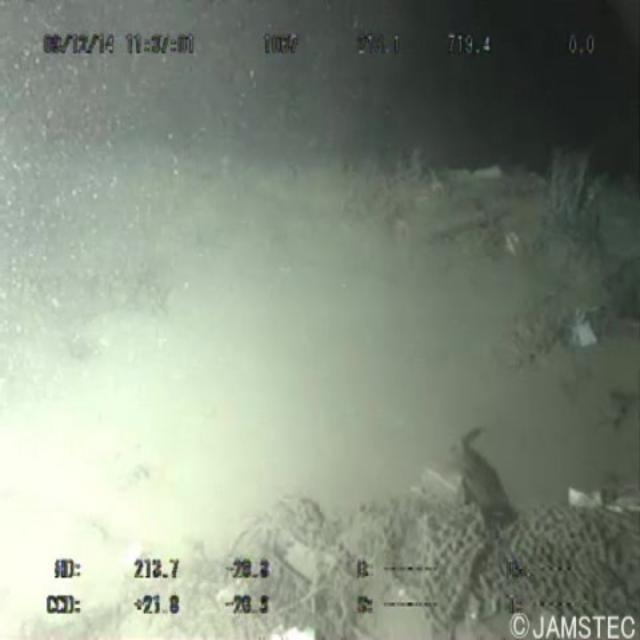Rope: (145, 498, 640, 640)
